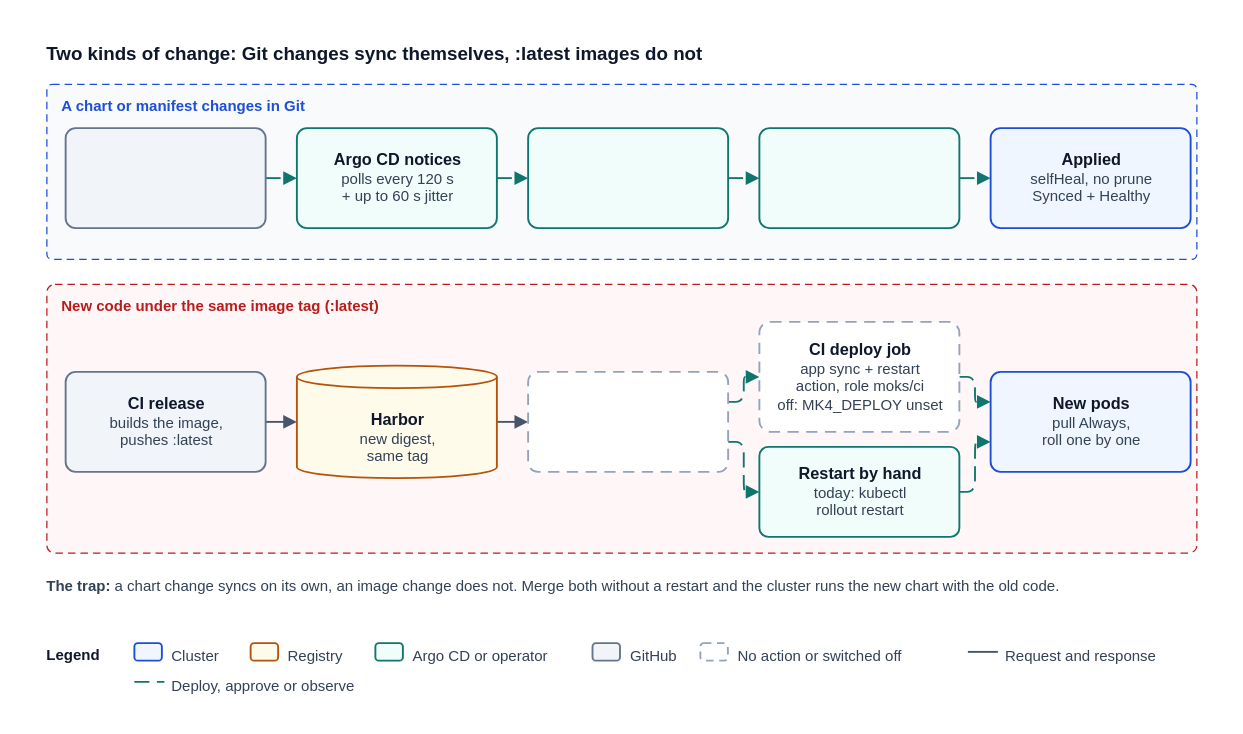
Some shapes in this 1243 by 734 pixel diagram are drawn without their labels. Each missing label, with the box of its shape:
Diff live vs rendered: OutOfSync: (758, 127, 960, 228)
Git unchanged Argo CD sees nothing to sync: (527, 370, 728, 472)
PR merged to master: (64, 127, 266, 228)
Render helm template or kustomize build: (527, 127, 728, 228)
